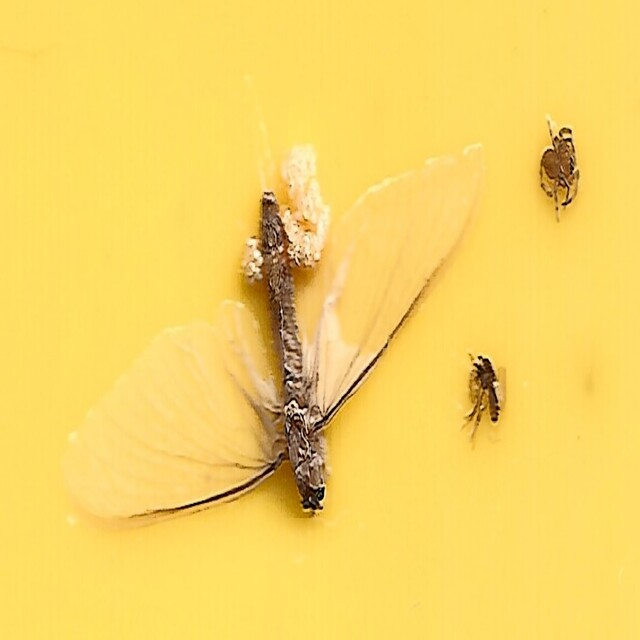Araneae: (537, 117, 580, 227)
Brachycera: (461, 345, 501, 441)
Ephemeroptera: (60, 145, 488, 523)
